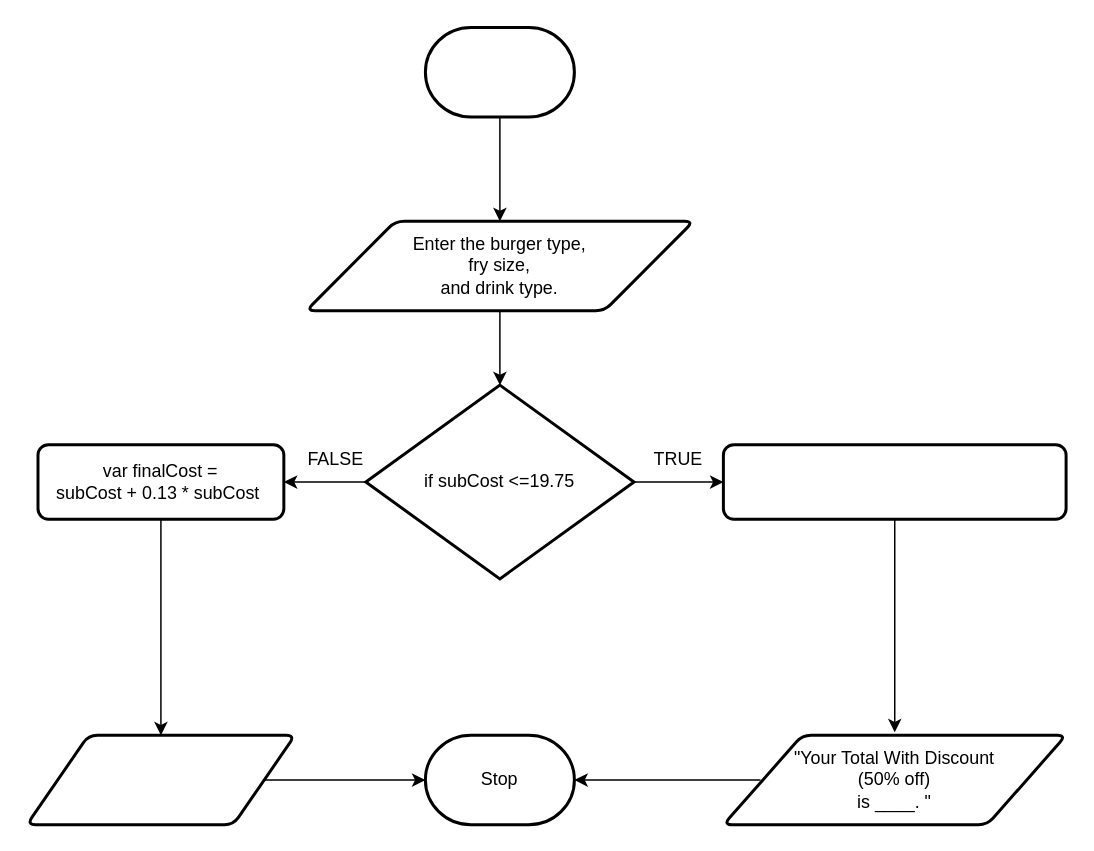
The diagram is 1094 pixels wide and 851 high, and some of its shapes have lost their labels. The shapes that lost their labels are listed below. From the top down, each one's centre as x and y in pixels, then its label:
(499,71): Start
(894,481): var finalCostDiscount = subCost + 0.13 * subCost - 0.5 * subCost
(160,779): "Your Total With Tax (HST = 13%) is ____."
